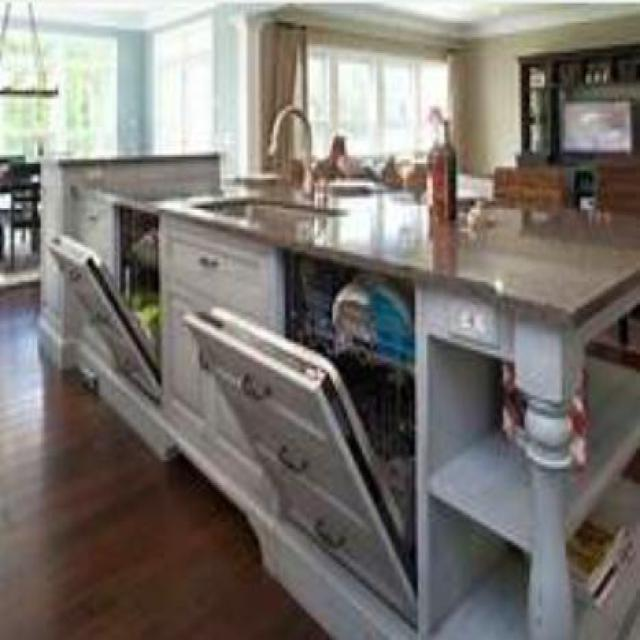dishwasher: (182, 243, 412, 624), (47, 199, 156, 404)
